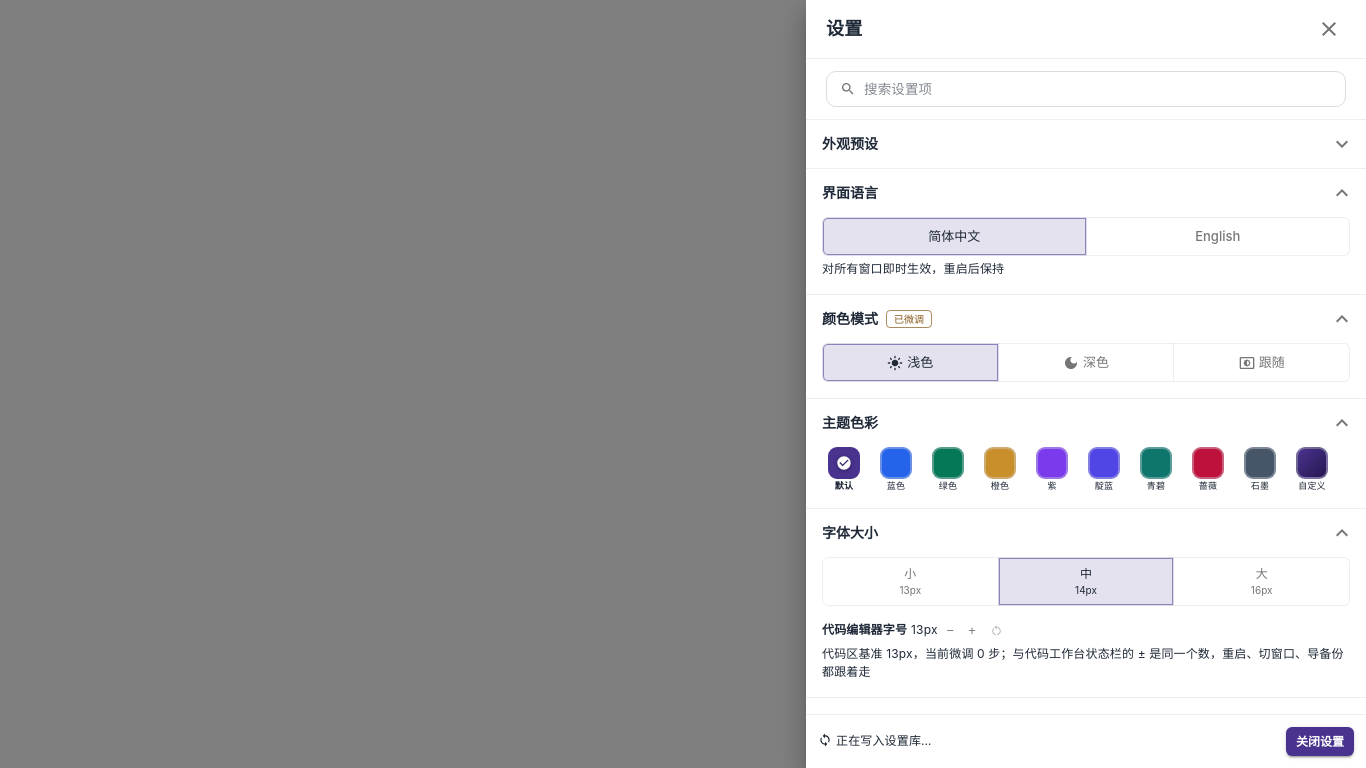
设置抽屉 · 底部落盘状态 › 写库失败时不再谎称已保存，而是给失败说明 + 重试出口
This screenshot has width=1366, height=768.
Click the button "深色". click: [1086, 363]
box: 998,343 -> 1174,382
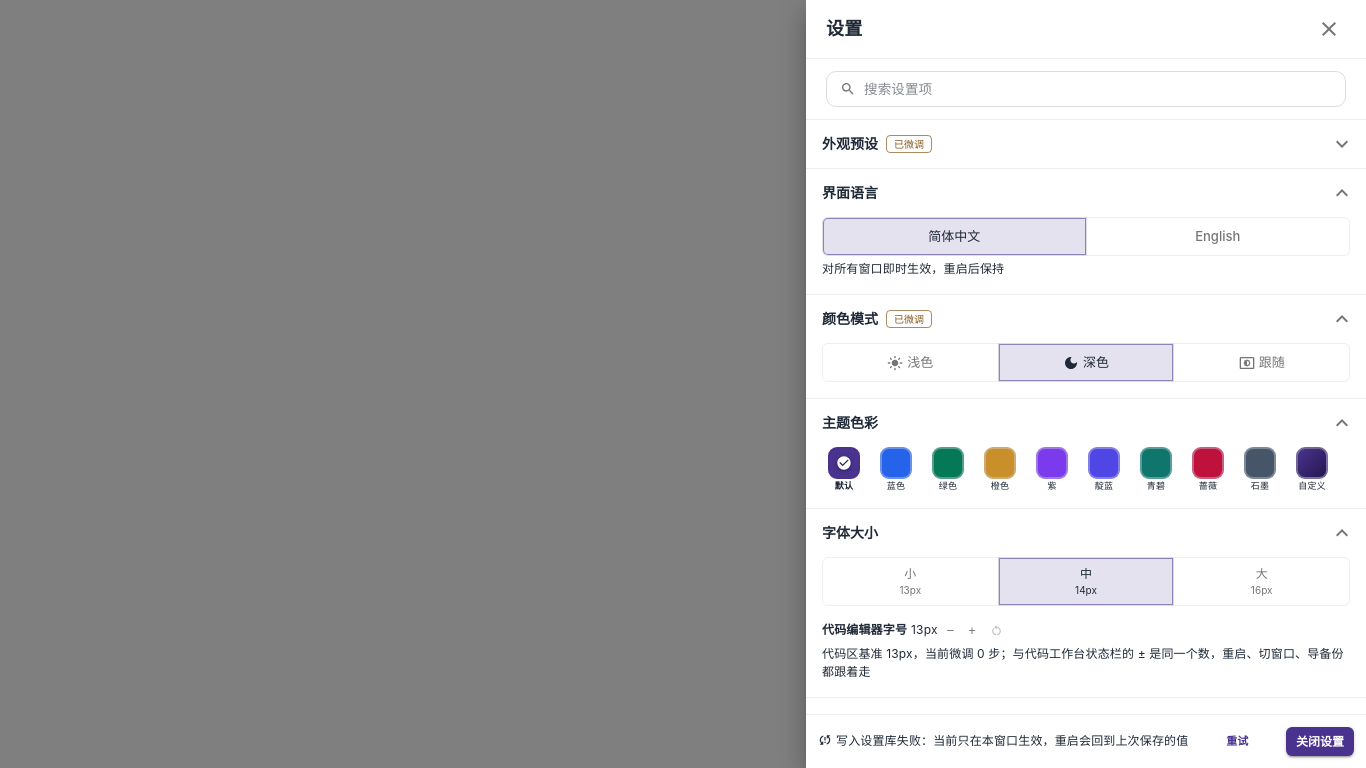
Now the element with test id "settings-sync-status" reads "写入设置库失败：当前只在本窗口生效，重启会回到上次保存的值", box 836,733 -> 1188,748
Click the button with test id "settings-sync-retry". click: [1237, 742]
box: 1205,728 -> 1269,755
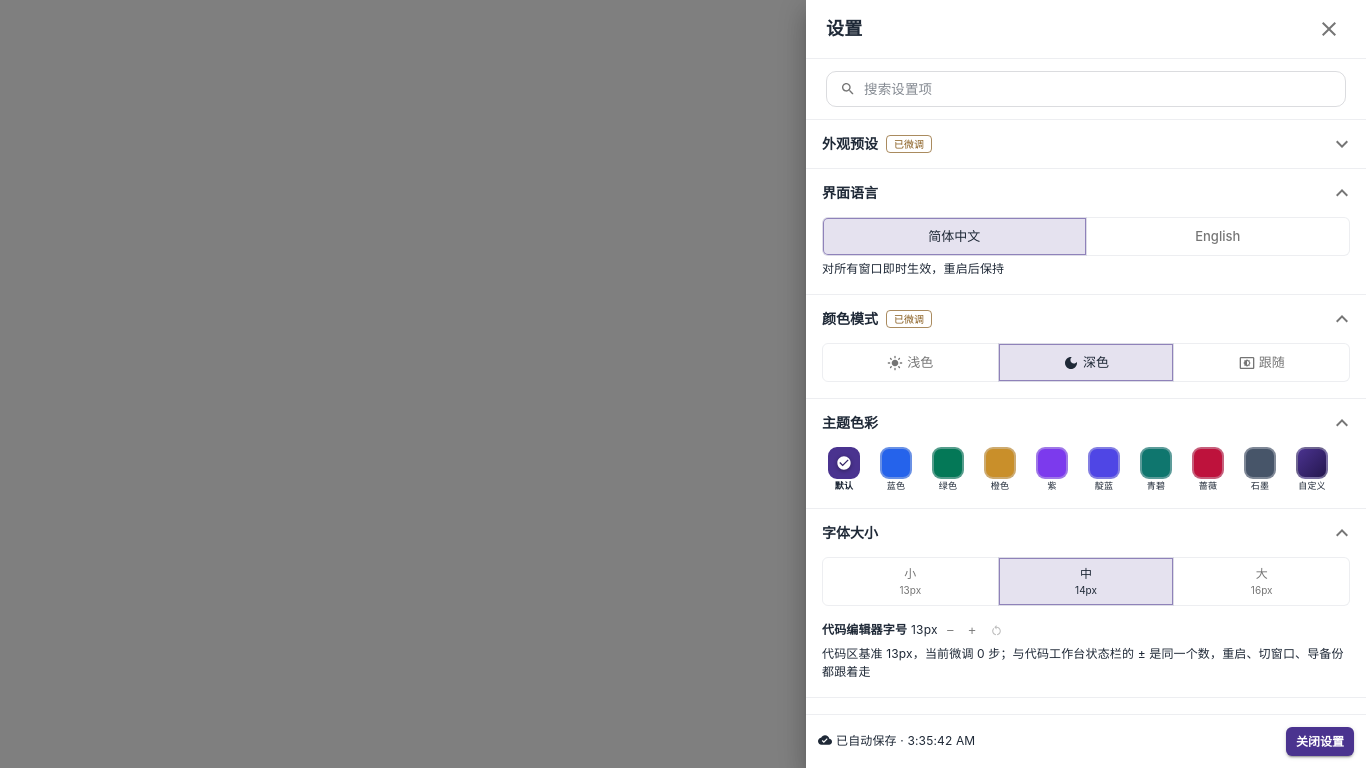
Now the element with test id "settings-sync-status" shows "已自动保存", box 836,733 -> 975,748
